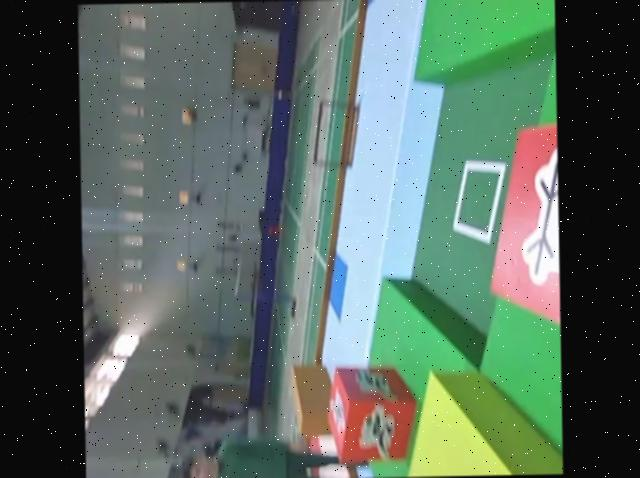R1: (322, 364, 419, 463)
R2 Real: (483, 120, 561, 342)
